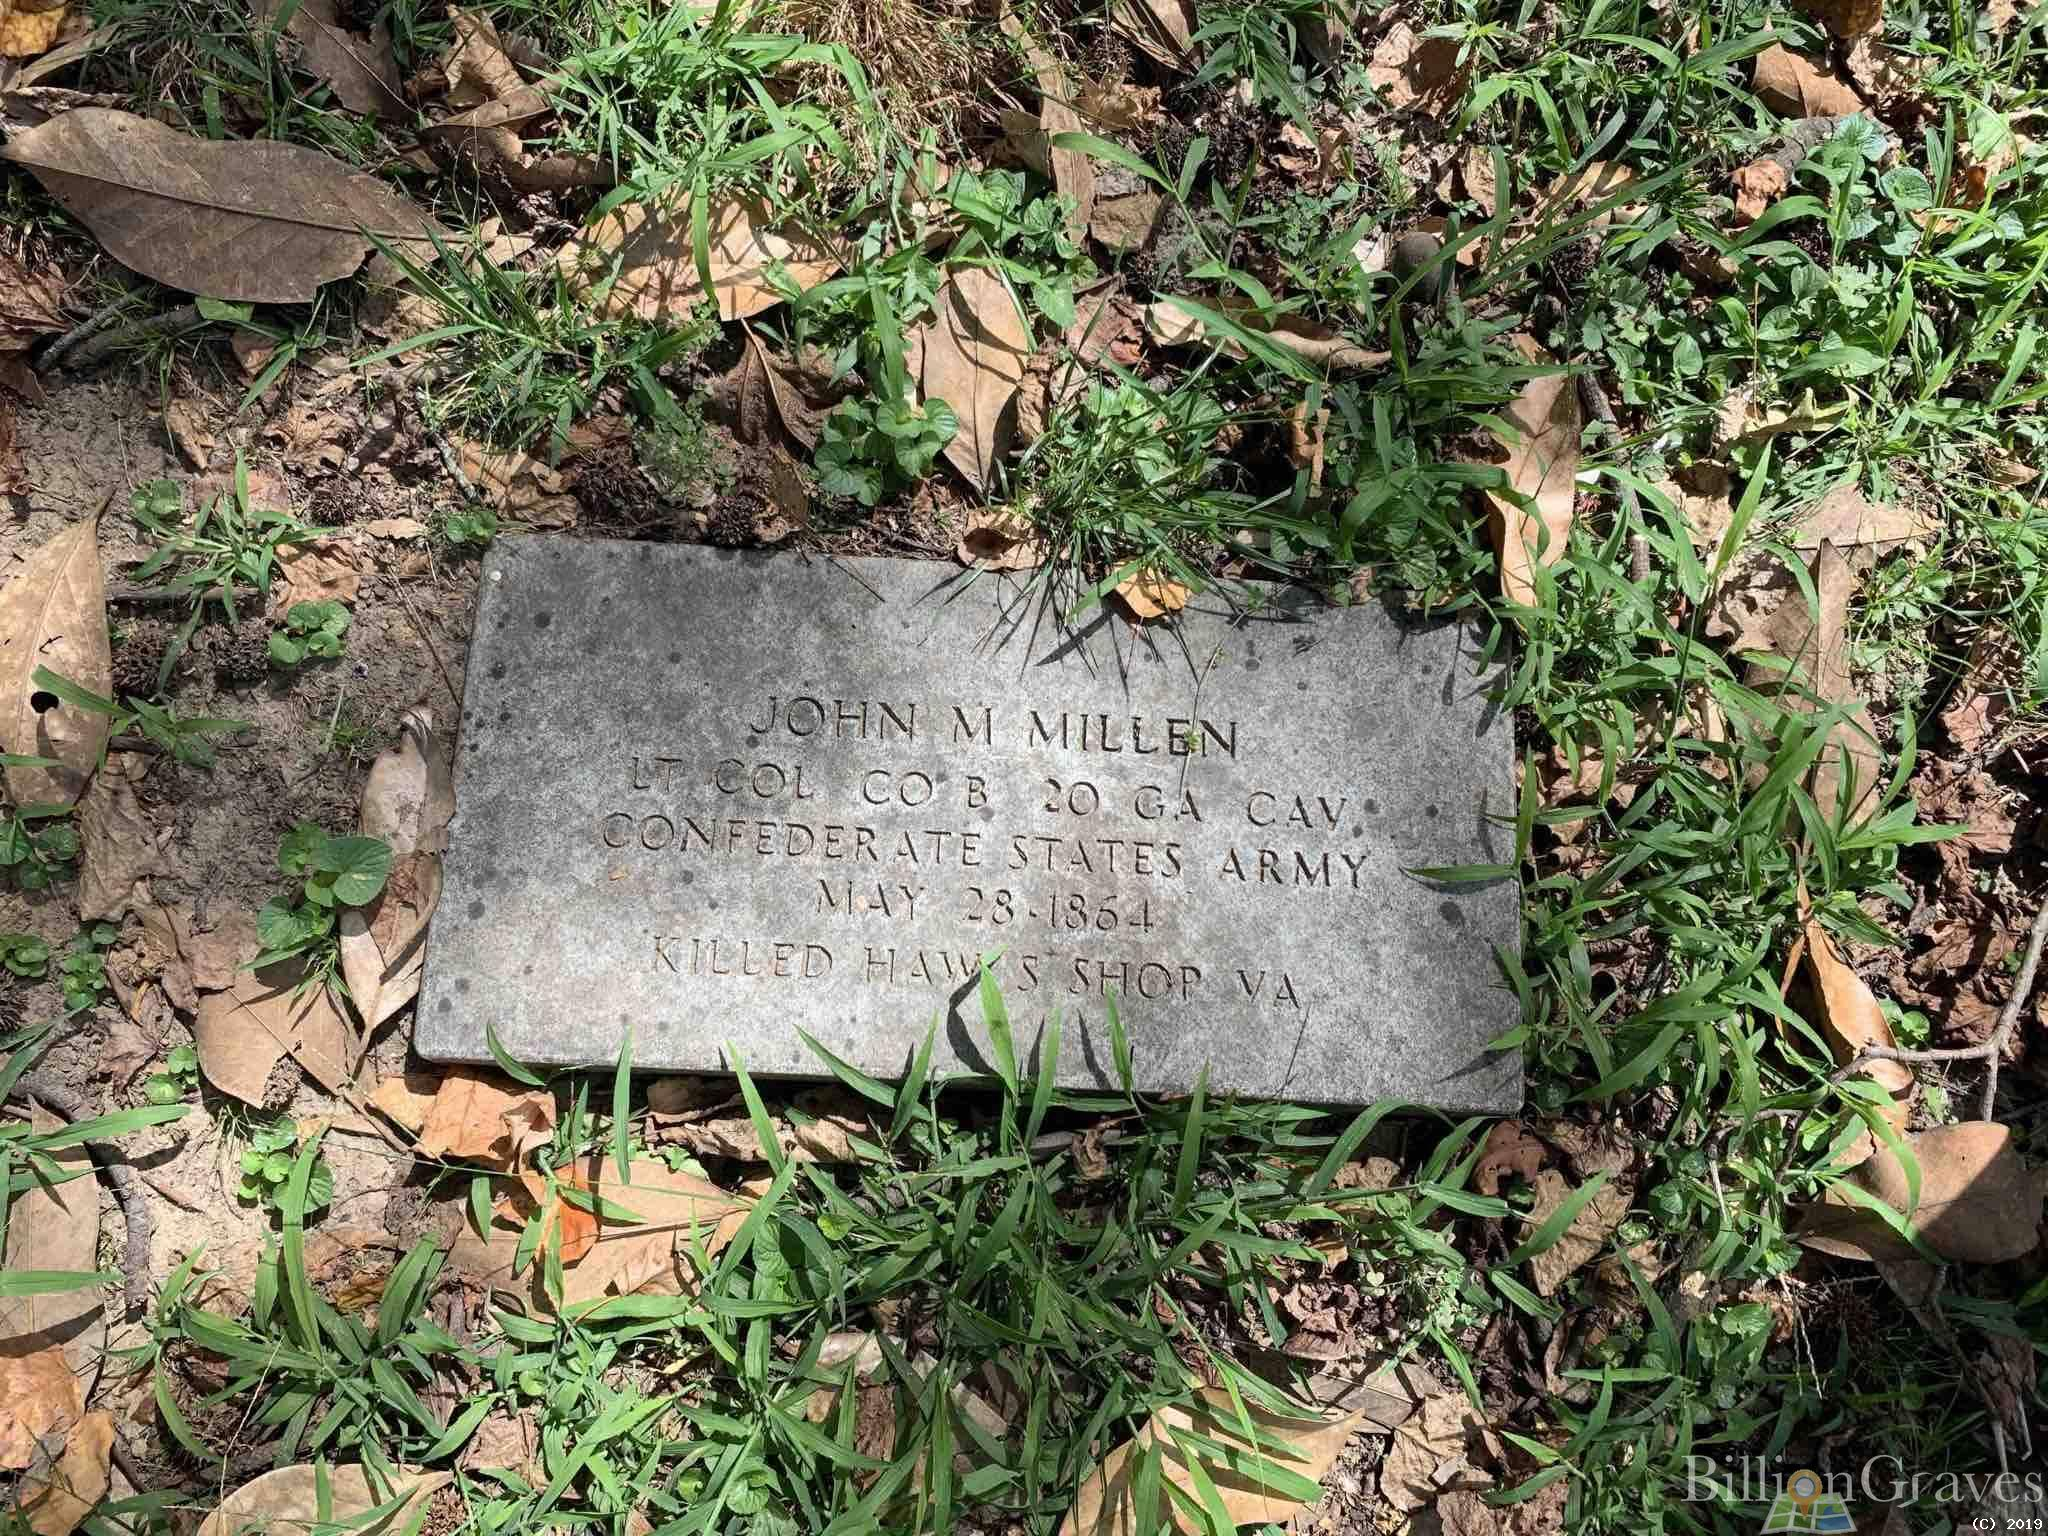flat: (410, 494, 1522, 1120)
